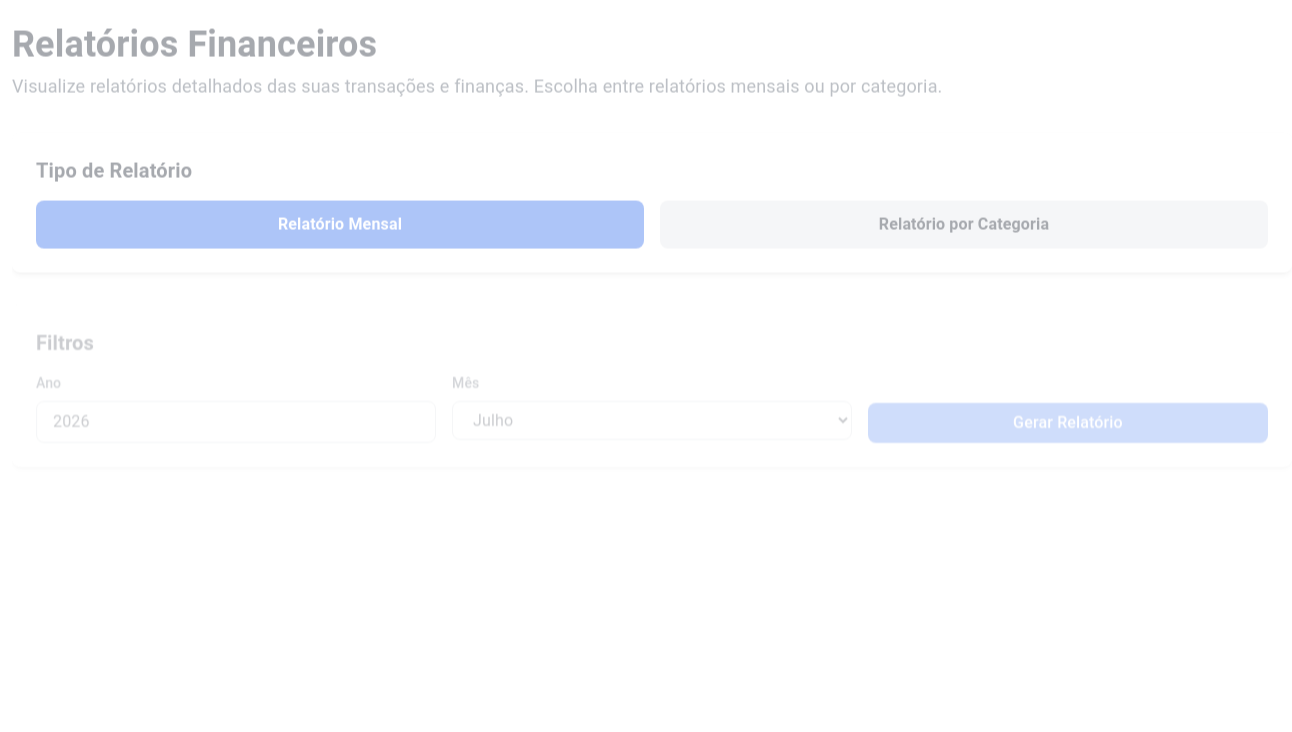
Test: ReportsPage Component › ReportsPage Component › should display error message if report generation fails
The width and height of the screenshot is (1292, 732).
Click the button "Gerar Relatório".
click(1068, 423)  # box [868,403,1268,443]
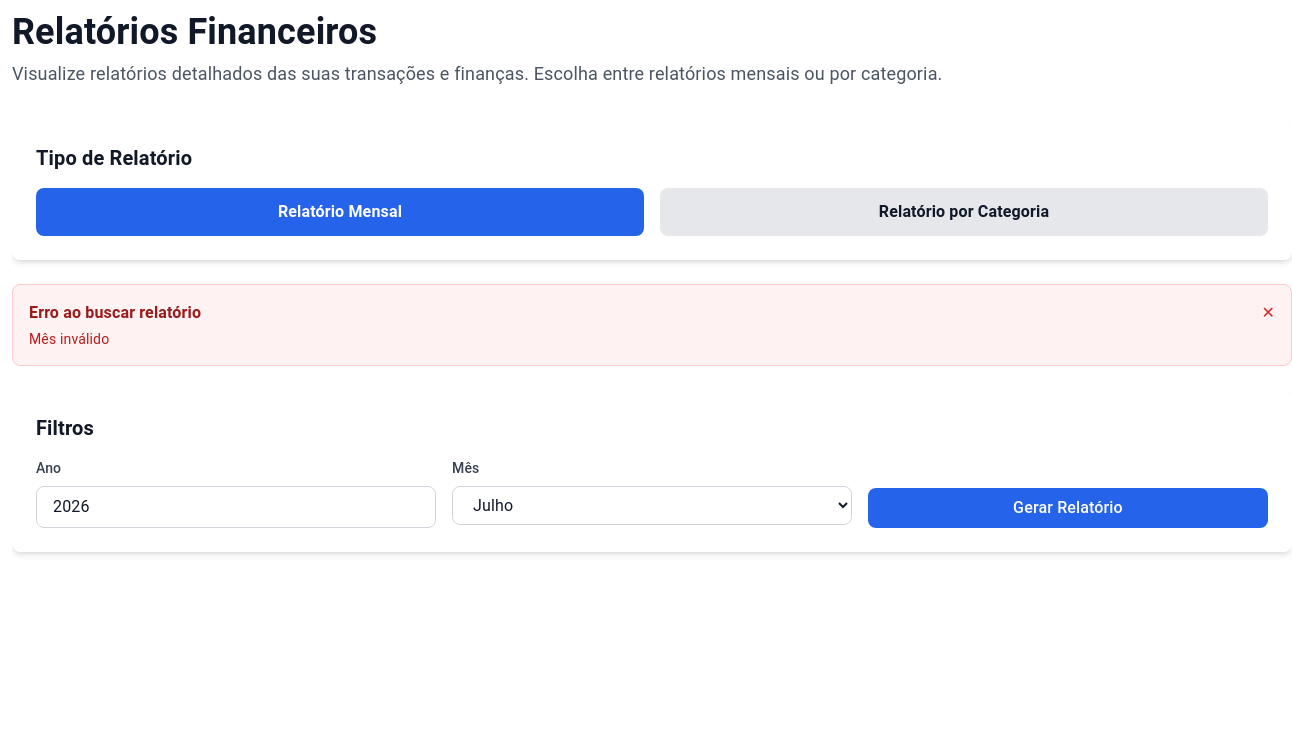
Expected: the heading "Erro ao buscar relatório" is shown, [29,301,201,325]
